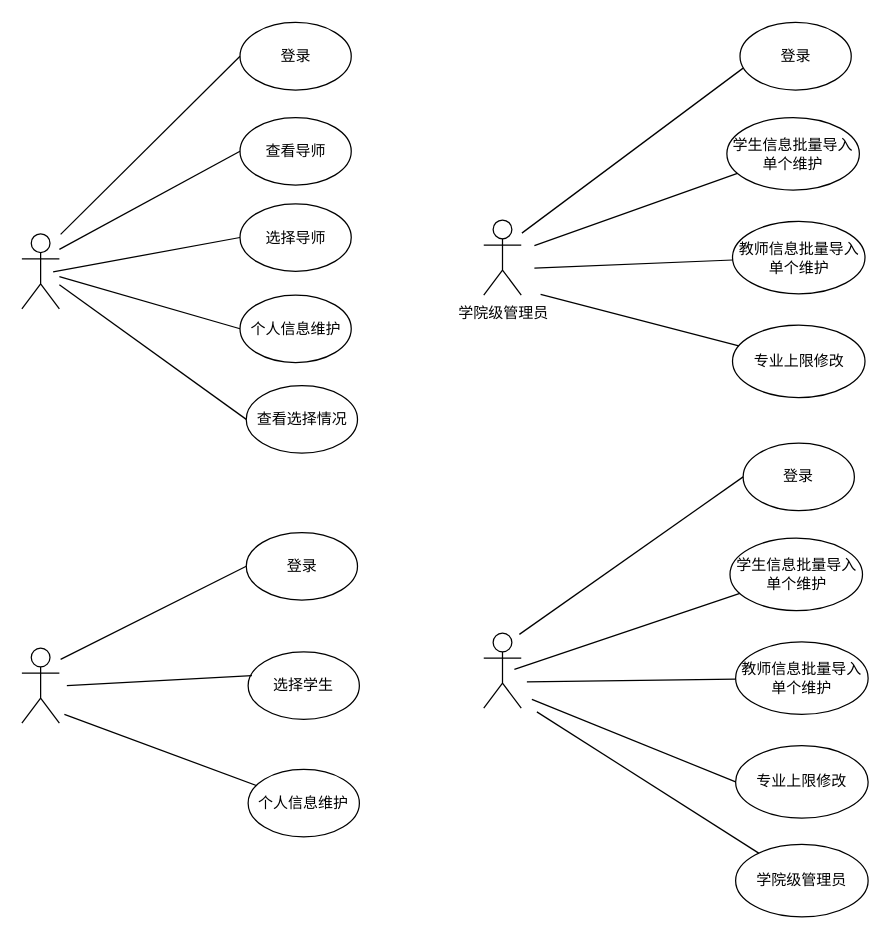
Some shapes in this 890 by 939 pixel diagram are drawn without their labels. The shapes that lost their labels are listed below. From the top down, each one's box as (x1, y1, x2, y2) in pixels, then its label:
(21, 232, 59, 309): 学生
(21, 647, 59, 723): 教师
(482, 632, 521, 708): 研究室管理员
